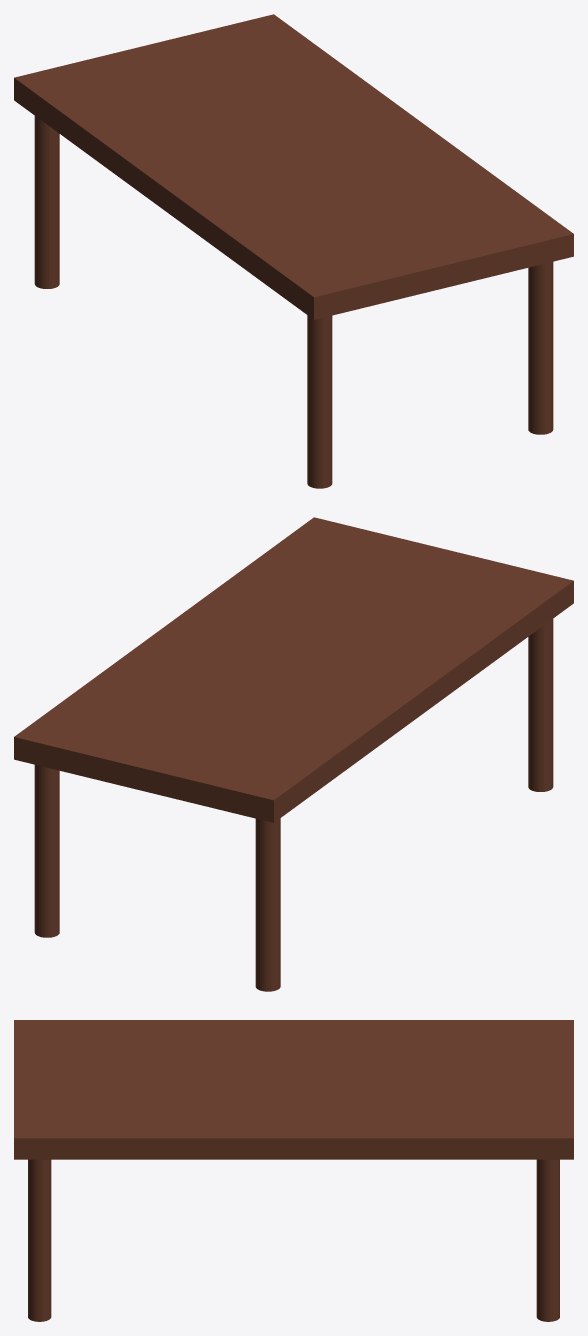
The model's file is couchtable.glb.
3 views of the same model, one above another, from view 1: azimuth 30°, elevation 25°; view 2: azimuth 150°, elevation 25°; view 3: azimuth 270°, elevation 25° (orthographic). The views are drawn at different scales.
Parts seen in each view (by area): view 1: Cube, Cylinder; view 2: Cube, Cylinder; view 3: Cube, Cylinder.
Part boxes in pixels (left/top/right/bottom): Cube: left=14, top=14, right=573, bottom=319; Cylinder: left=34, top=116, right=553, bottom=488; Cube: left=14, top=517, right=573, bottom=822; Cylinder: left=34, top=619, right=553, bottom=991; Cube: left=14, top=1020, right=573, bottom=1159; Cylinder: left=28, top=1159, right=559, bottom=1321.
Size of the model in its own units: 0.6 by 0.4432 by 1.2.
